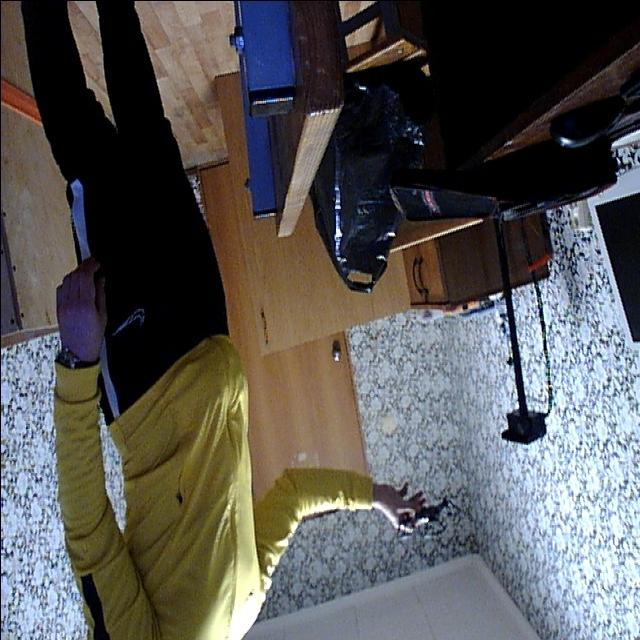drone: (384, 487, 452, 552)
